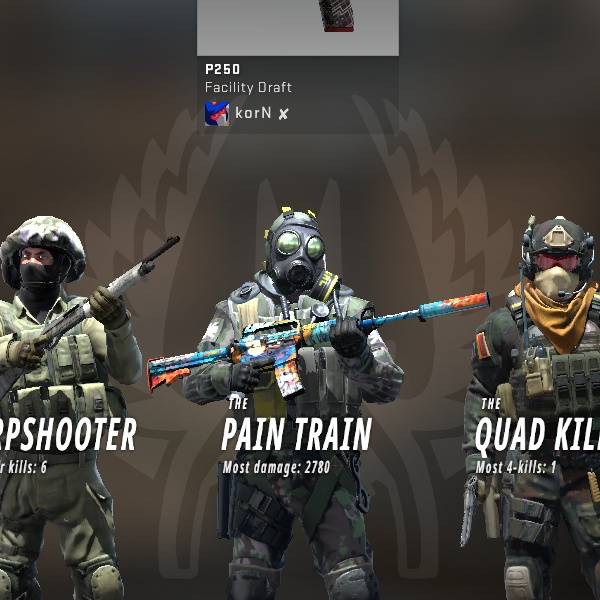ct_body: (177, 206, 386, 589), (0, 196, 168, 600), (427, 184, 586, 600)
ct_head: (0, 204, 98, 308), (508, 201, 597, 312)
